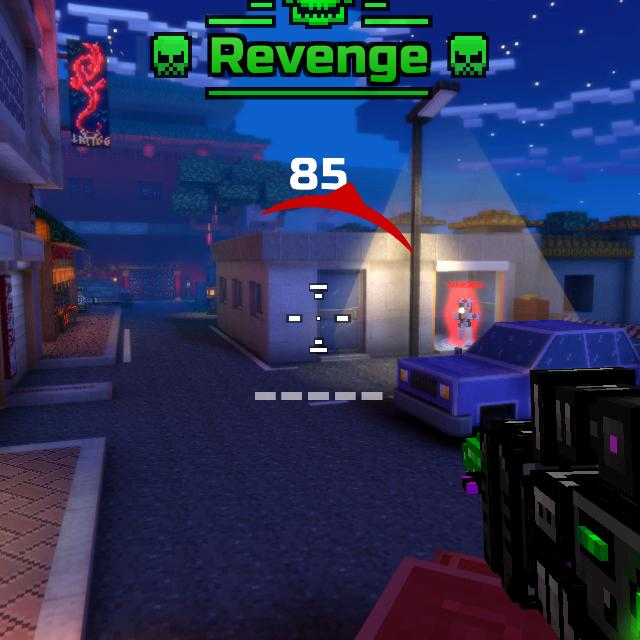Enemy: (451, 297, 478, 343)
